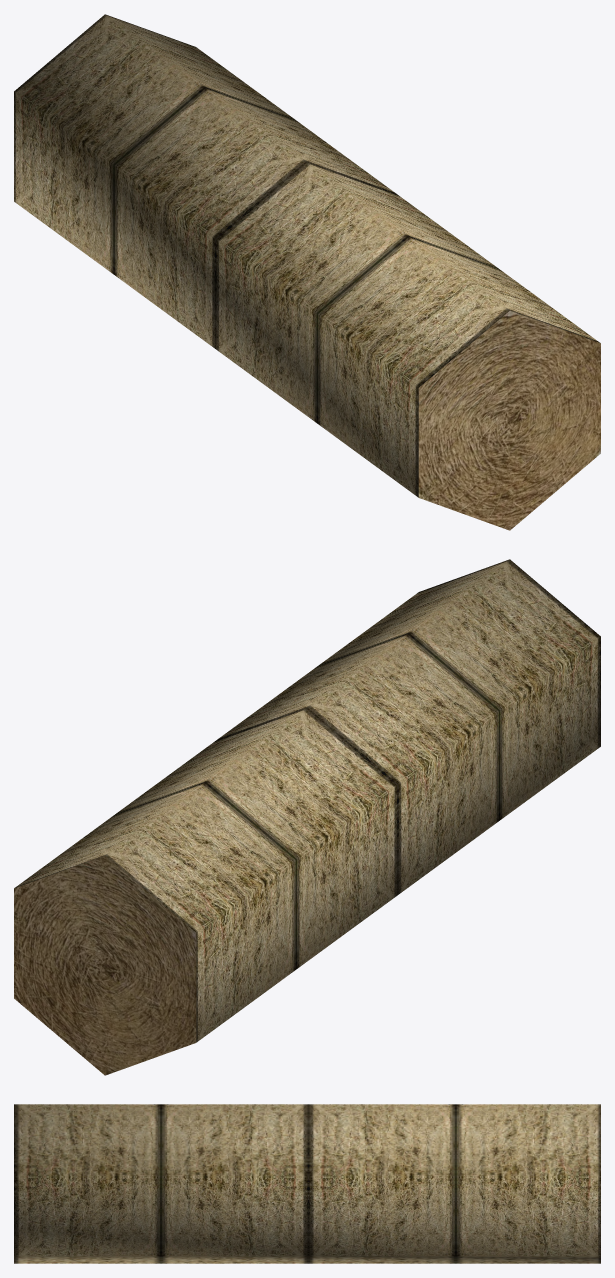
Rendered from hay-bale-straw-1x4-cbj_LOD02.gltf.
3 renders of one model, top to bottom at view 1: azimuth 30°, elevation 25°; view 2: azimuth 150°, elevation 25°; view 3: azimuth 270°, elevation 25°, orthographic. The views are drawn at different scales.
Parts seen in each view (by area): view 1: Cube.003; view 2: Cube.003; view 3: Cube.003.
Part boxes in pixels (left/top/right/bottom): Cube.003: left=14, top=14, right=600, bottom=530; Cube.003: left=14, top=559, right=600, bottom=1075; Cube.003: left=14, top=1104, right=600, bottom=1263.
Size of what is drawn, in the model's own units: 1.56 by 1.8 by 6.
